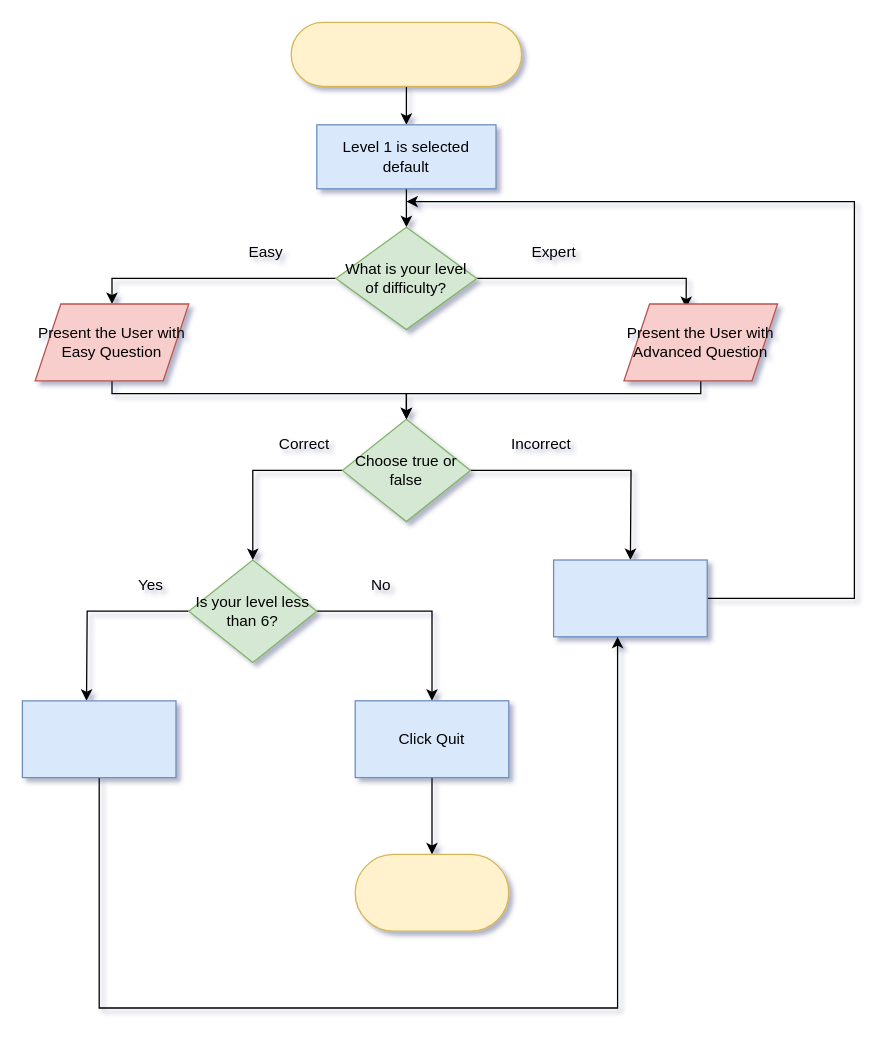
Image size: 895x1048. Some labels were removed from this diagram. The shapes that lost their labels are listed below. From the top down, each one's box as (x1, y1, x2, y2) in pixels, then its label:
(290, 21, 522, 86): Start
(552, 559, 707, 637): Click on Proceed
(21, 700, 176, 778): Click on the next level
(354, 853, 509, 931): End
